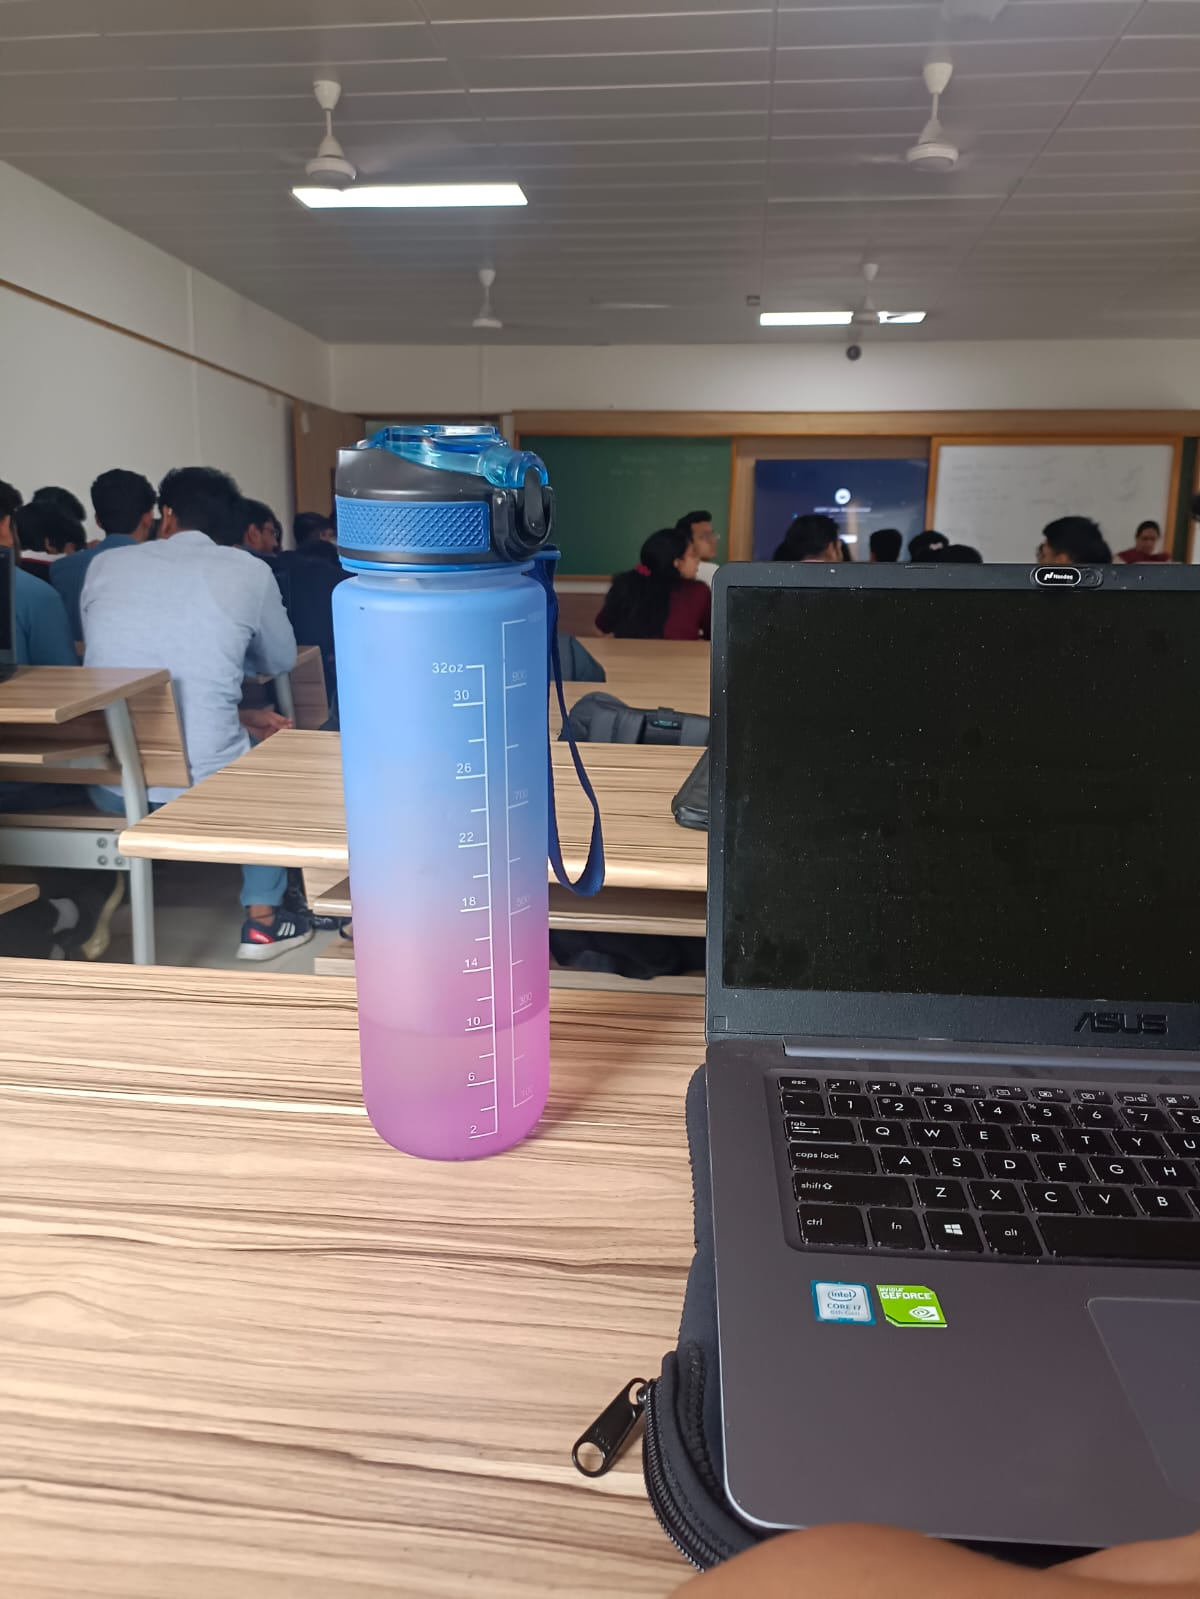bottle: (323, 408, 621, 1177)
